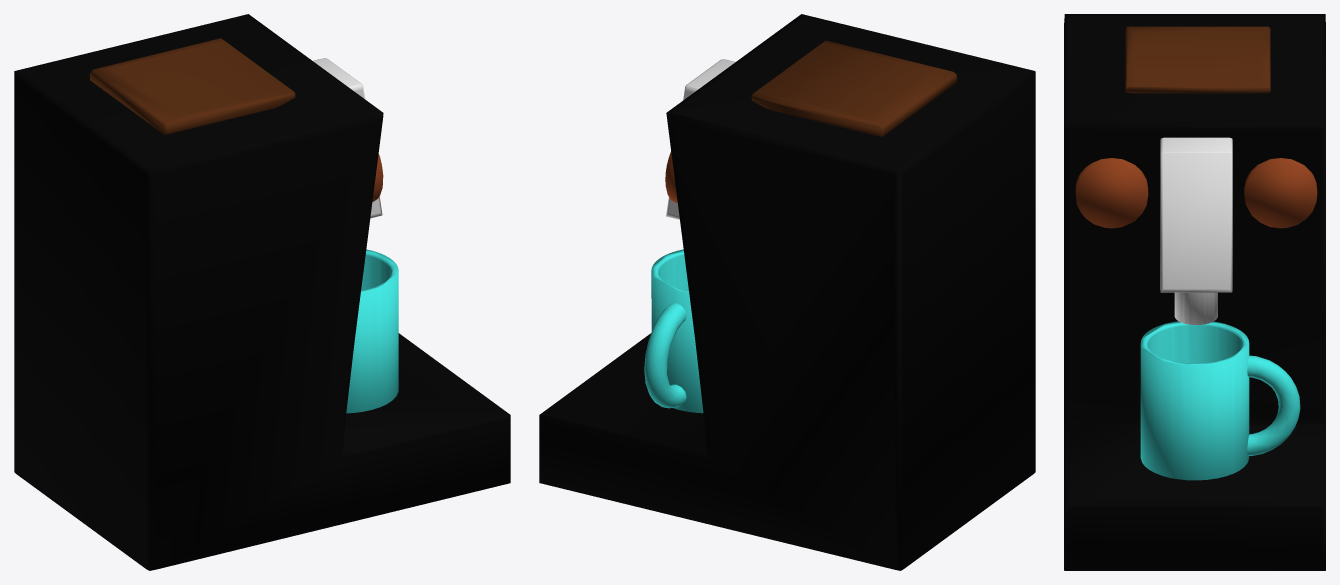
The model's file is Kaffeemachine.fbx.
The picture shows the model from 3 angles, left to right: view 1: azimuth 30°, elevation 25°; view 2: azimuth 150°, elevation 25°; view 3: azimuth 270°, elevation 25°; orthographic projection. The views are drawn at different scales.
Visible parts, largest first — view 1: Kaffeemaschine_LOD0; view 2: Kaffeemaschine_LOD0; view 3: Kaffeemaschine_LOD0.
Boxes of the visible parts, x1,y1,x2,y2 form: Kaffeemaschine_LOD0: (14, 14, 510, 570); Kaffeemaschine_LOD0: (539, 14, 1035, 570); Kaffeemaschine_LOD0: (1064, 14, 1325, 570).
Size of what is drawn, in the model's own units: 27.73 by 30.17 by 18.
